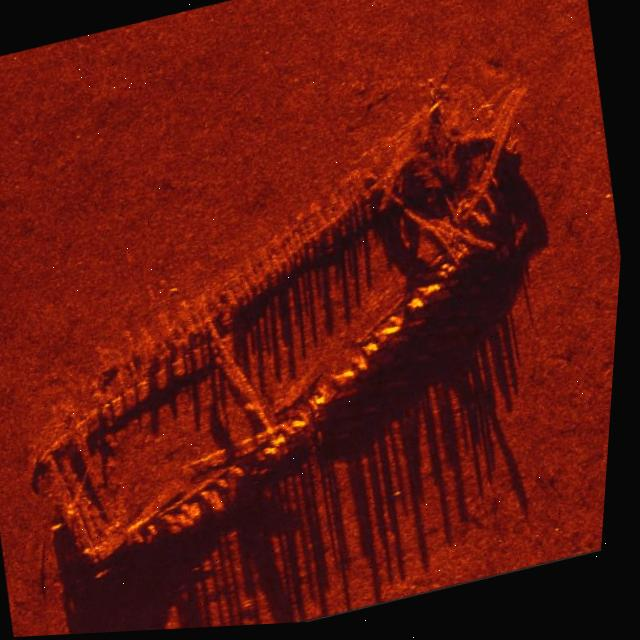shipwreck: (0, 90, 601, 583)
